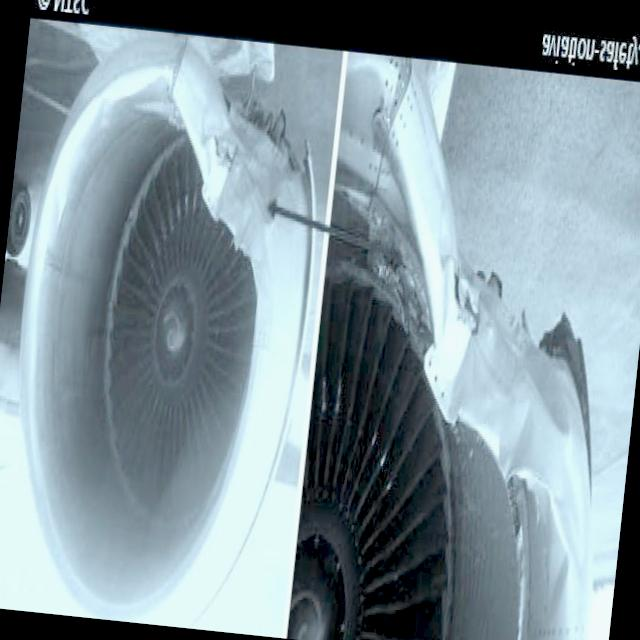dent: (524, 360, 600, 618), (424, 220, 478, 334), (496, 393, 541, 486)
